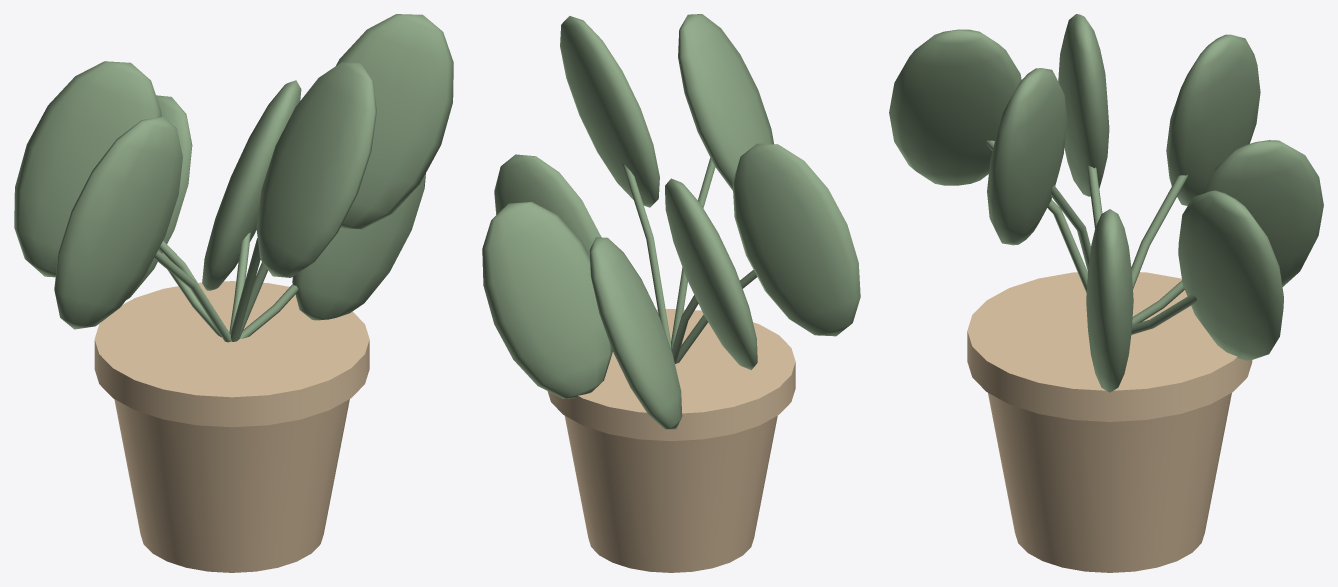
Rendered from natural-plant.glb.
3 views of the same model, side by side, from view 1: azimuth 30°, elevation 25°; view 2: azimuth 150°, elevation 25°; view 3: azimuth 270°, elevation 25° (orthographic). The views are drawn at different scales.
Parts seen in each view (by area): view 1: Pot.001; view 2: Pot.001; view 3: Pot.001.
Boxes of the visible parts, bbox=[...] form: Pot.001: bbox=[14, 14, 453, 572]; Pot.001: bbox=[482, 14, 860, 572]; Pot.001: bbox=[889, 14, 1323, 572].
Size of the model in its own units: 0.8818 by 1.11 by 0.8238.
